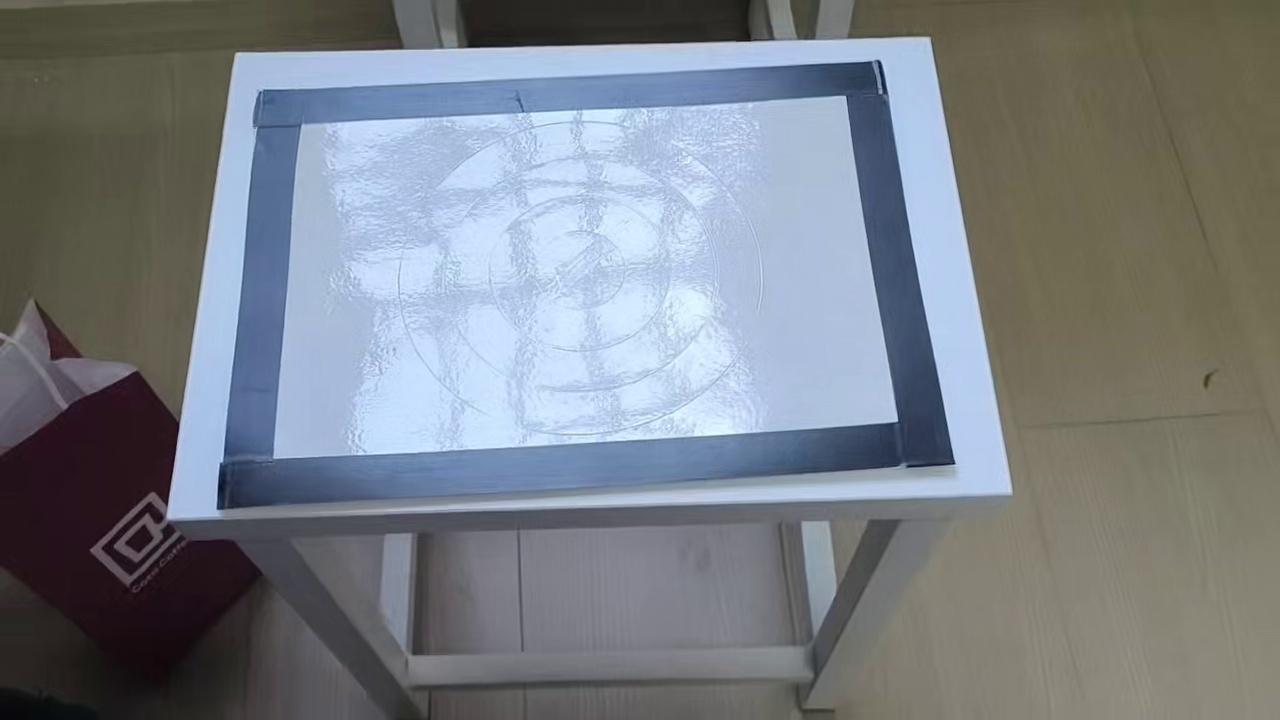board: (214, 62, 953, 509)
